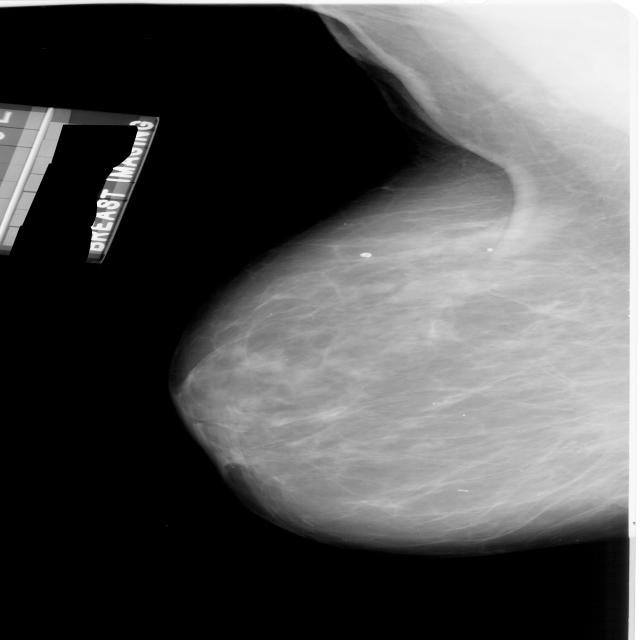normal: (128, 72, 640, 554)
